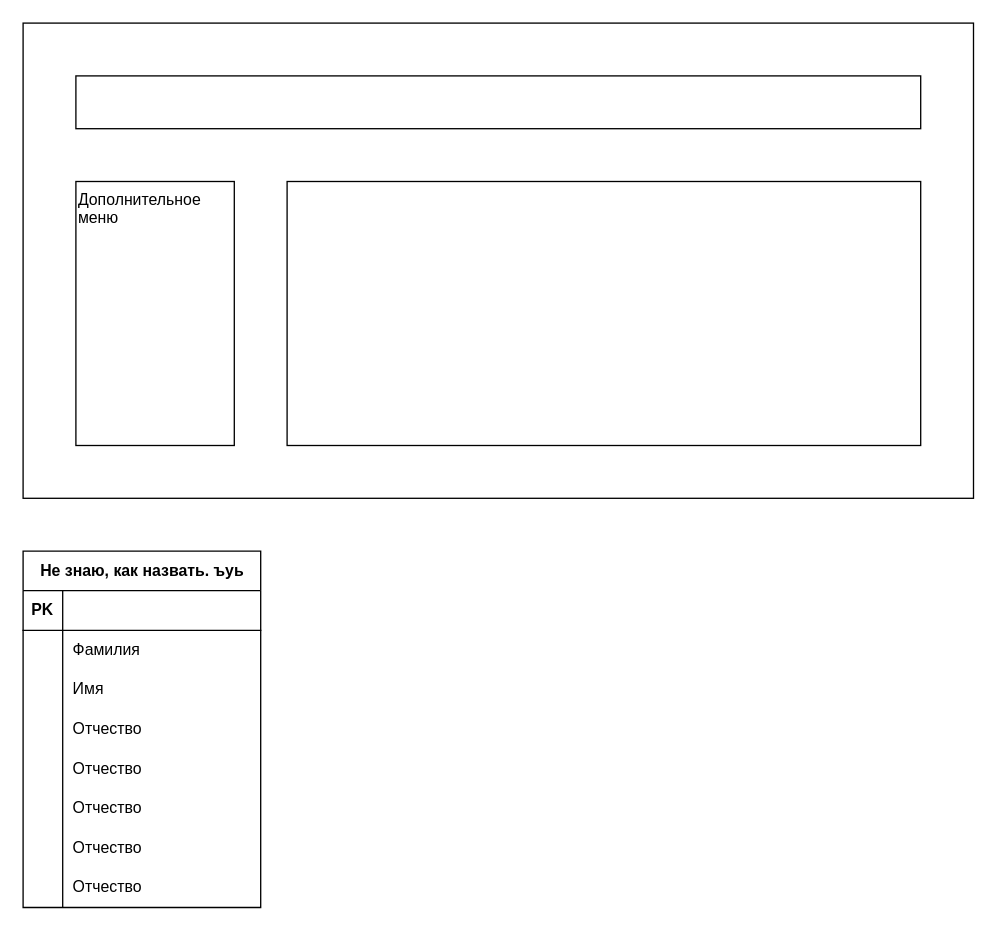
Some shapes in this 997 by 931 pixel diagram are drawn without their labels. Each missing label, with the centre of its shape:
"Данные о посещаемости какого-то человека" belongs at point (603, 313).
"Действия (по типу сохранить, добавить данные, импортировать и т.д.)" belongs at point (498, 102).
